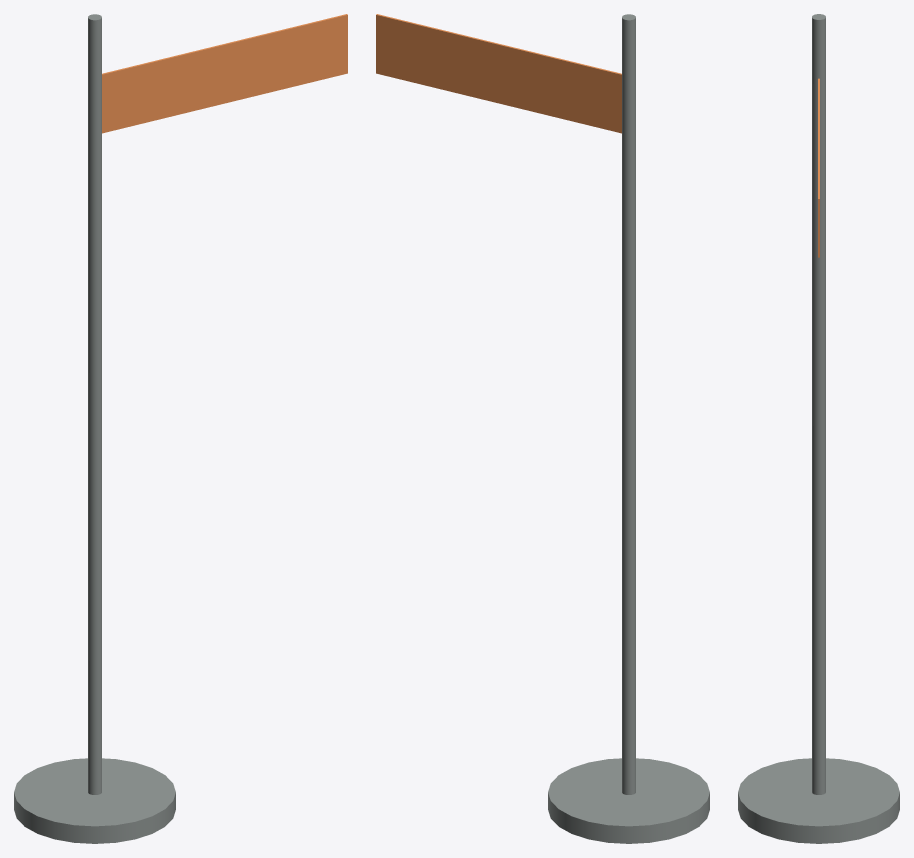
The model's file is wind_flag.glb.
The picture shows the model from 3 angles, left to right: view 1: azimuth 30°, elevation 25°; view 2: azimuth 150°, elevation 25°; view 3: azimuth 270°, elevation 25°; orthographic projection.
Visible parts, largest first — view 1: static_batch_0_0, fabric; view 2: static_batch_0_0, fabric; view 3: static_batch_0_0, fabric.
Boxes of the visible parts, x1,y1,x2,y2 form: static_batch_0_0: (14, 14, 175, 843); fabric: (102, 14, 347, 133); static_batch_0_0: (548, 14, 709, 843); fabric: (376, 14, 621, 133); static_batch_0_0: (738, 14, 899, 843); fabric: (818, 78, 819, 257).
Size of the model in its own units: 1.15 by 2.7 by 0.5.
